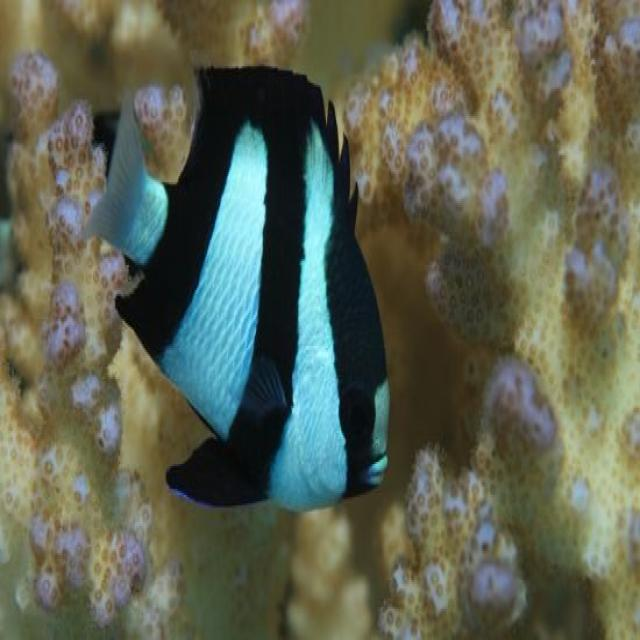ThreeStripedDamselfish: (84, 66, 390, 516)
